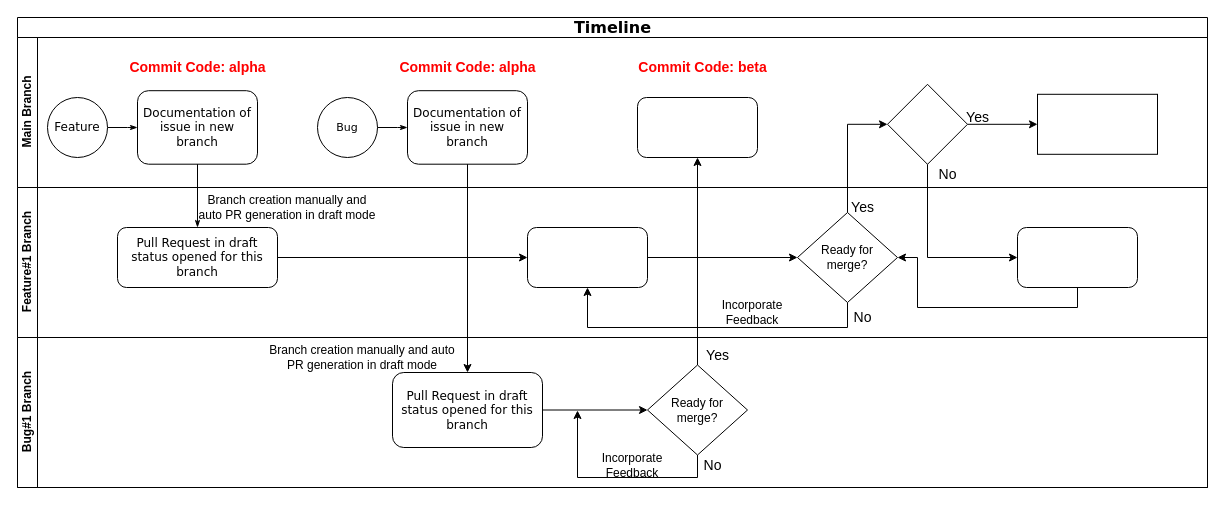
The diagram is 1225 pixels wide and 505 high, and some of its shapes have lost their labels. The shapes that lost their labels are listed below. From the top down, each one's centre as x and y in pixels, then its label:
At [697,127]: "Bug fix merged and deployed".
At [927,123]: "Can merge?".
At [1097,123]: "Merge feature and deploy".
At [587,257]: "On-going work".
At [1077,257]: "Rebase branch to new updates (commit code beta) in main branch".
